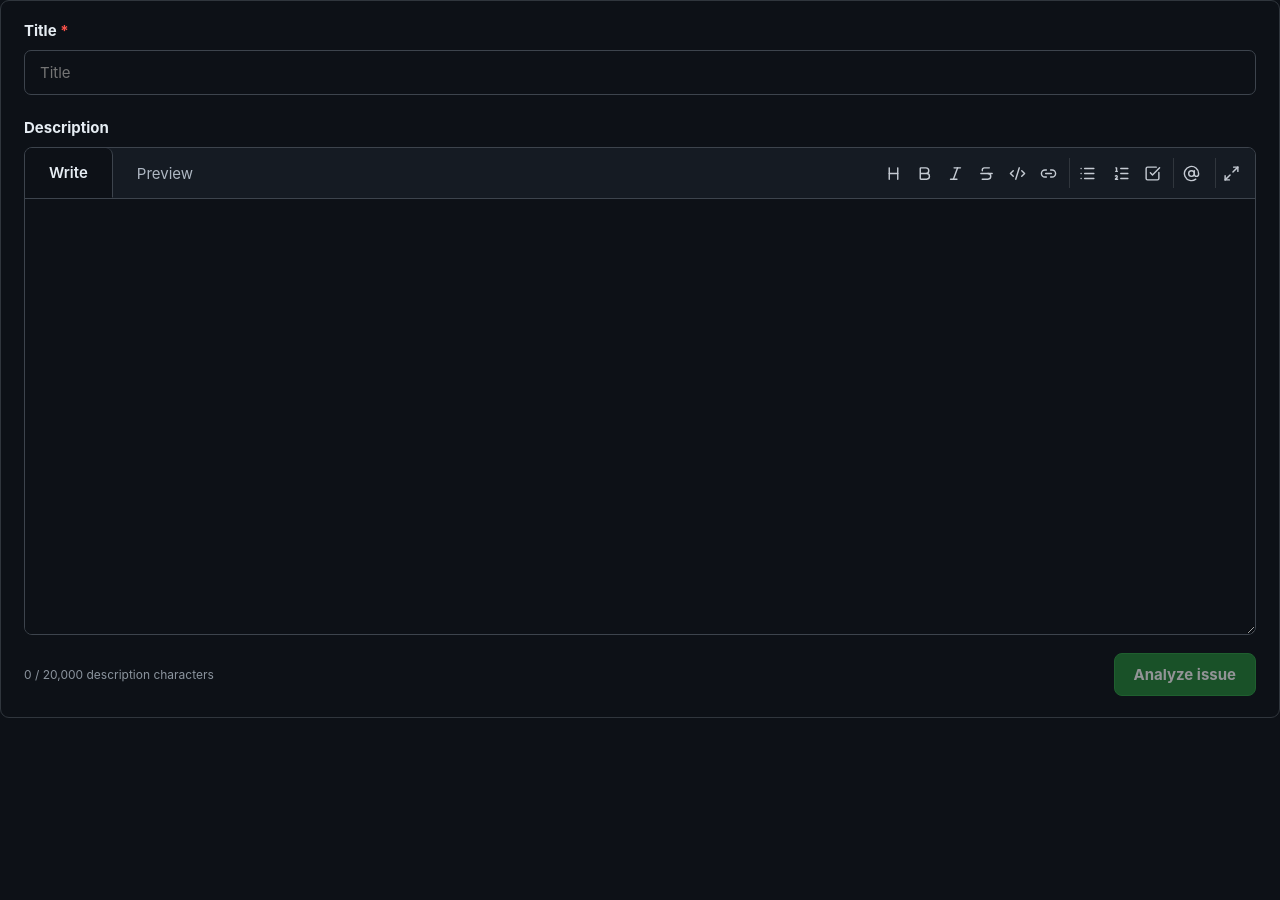
Test: IssueEditor › preserves Markdown when switching between Write and Preview
This screenshot has width=1280, height=900.
Later steps or results of the test are not shown.
Type "# Application crashes" into the text box named "issue description in markdown" at (640, 416), box [25,199,1255,634]
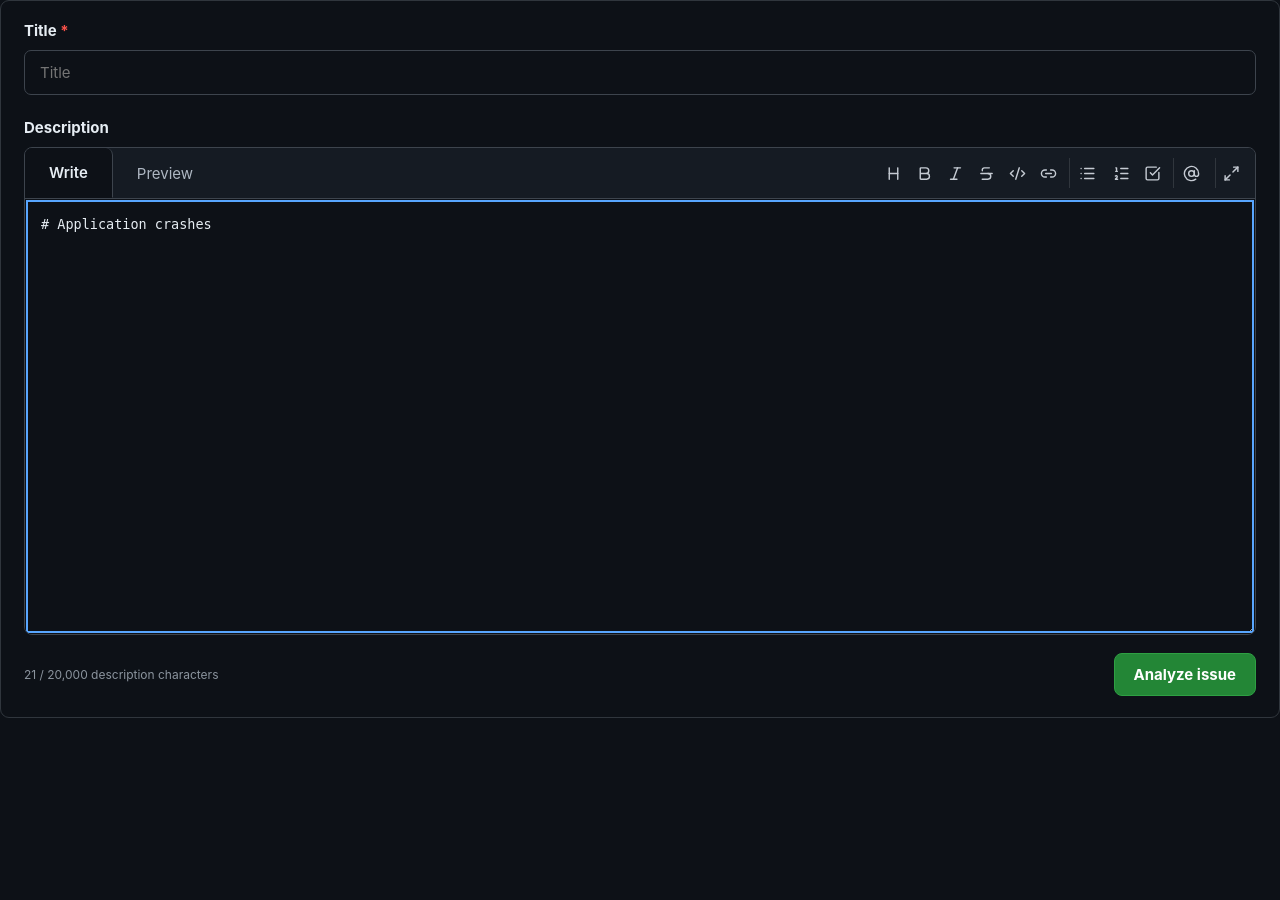
Click the tab "Preview" at (165, 173), box [113,148,217,198]
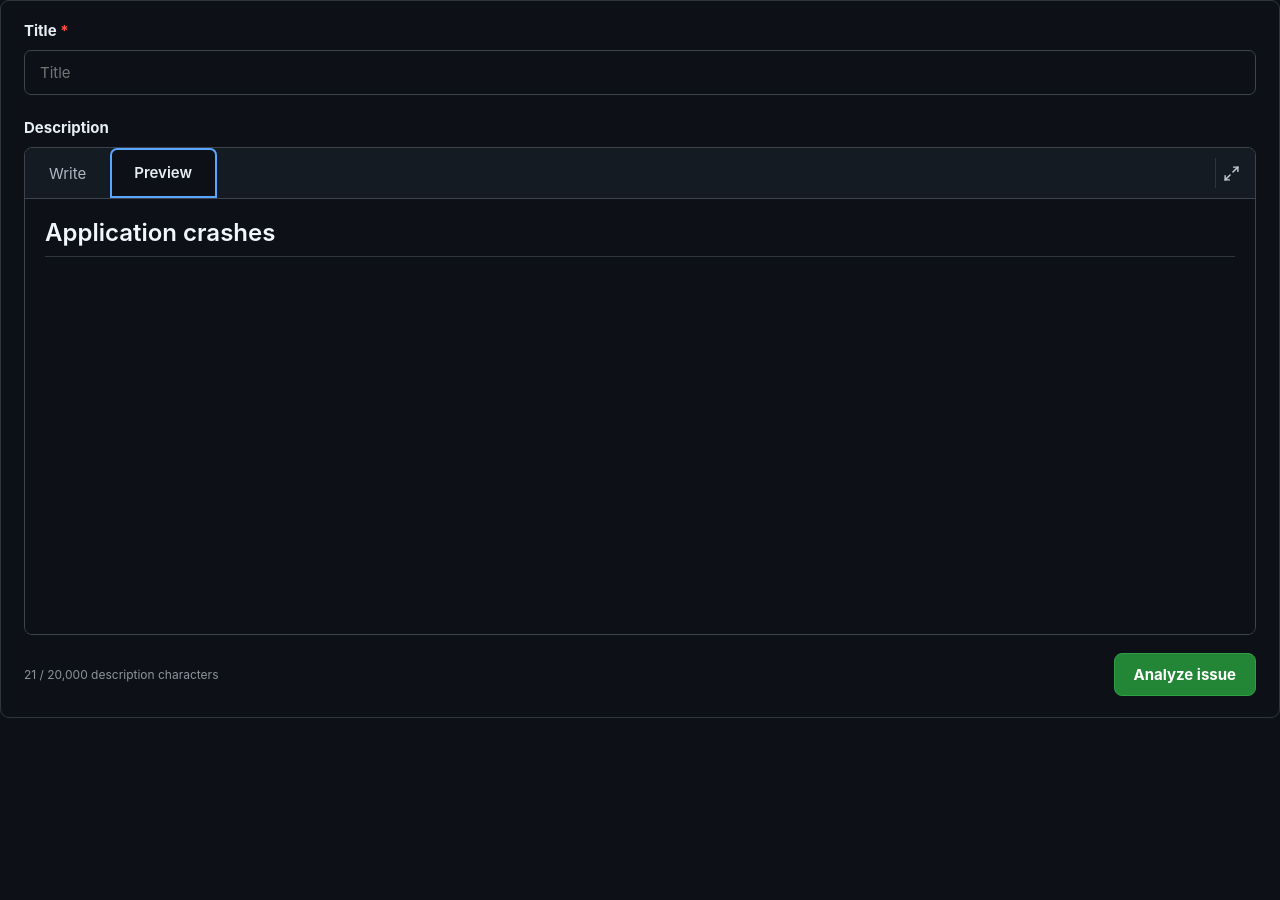
Expected: the heading "Application crashes" is shown, [45,217,1235,257]
